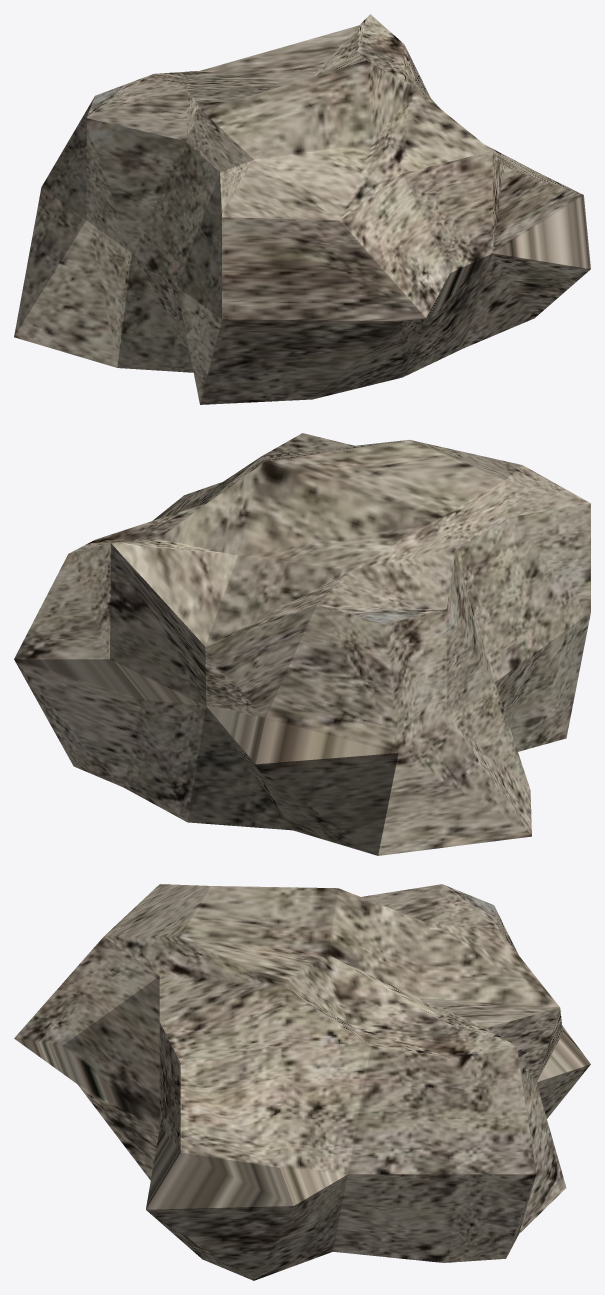
The model's file is limestone.glb.
The picture shows the model from 3 angles, top to bottom: view 1: azimuth 30°, elevation 25°; view 2: azimuth 150°, elevation 25°; view 3: azimuth 270°, elevation 25°; orthographic projection. The views are drawn at different scales.
Parts seen in each view (by area): view 1: Cube; view 2: Cube; view 3: Cube.
Part boxes in pixels (x1,y1,x2,y2): Cube: [14, 14, 590, 404]; Cube: [14, 433, 590, 855]; Cube: [14, 884, 590, 1280].
Bounding box in the file's own units: 0.5 × 0.25 × 0.5.
Materials: 1 (1 with a texture image).
